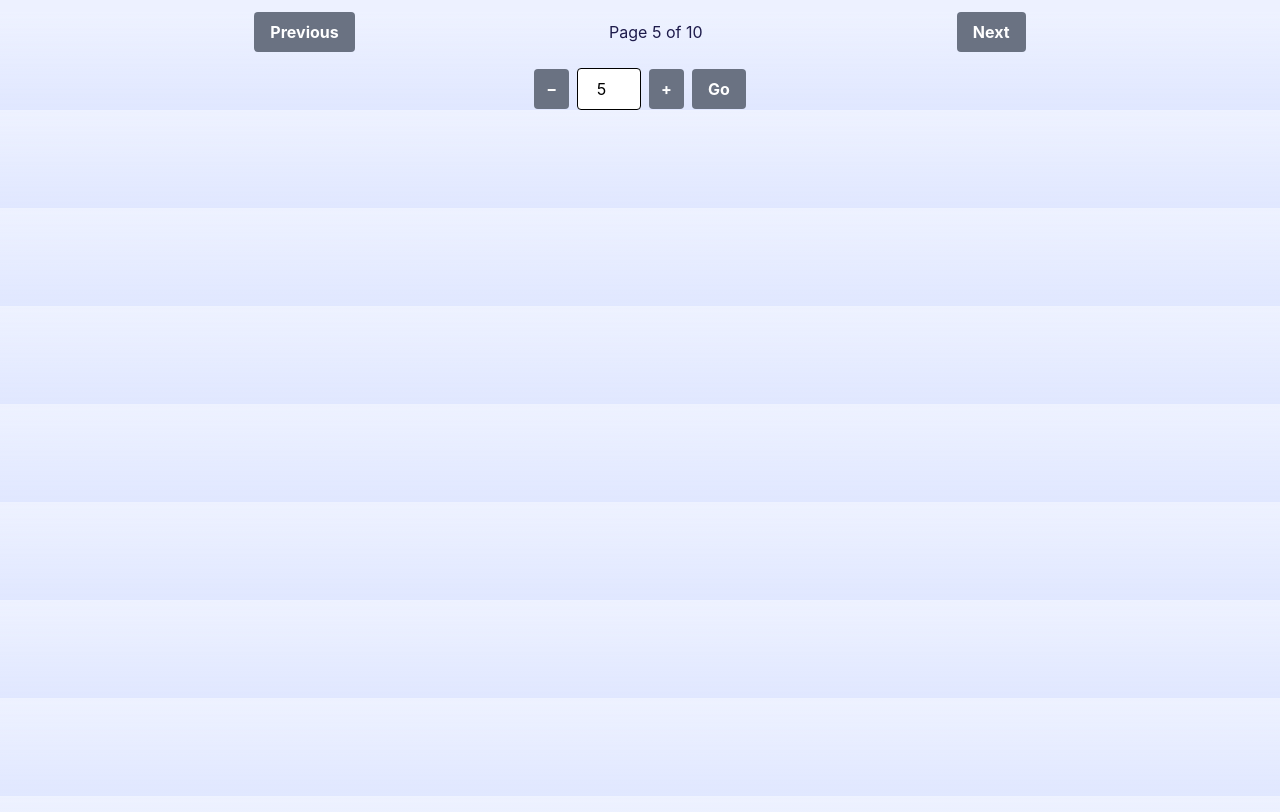
Scenario: PaginationControls › stepper buttons › Decrease button decrements the input value
Click the button named "Decrease page": (552, 89) left=534, top=69, right=569, bottom=109
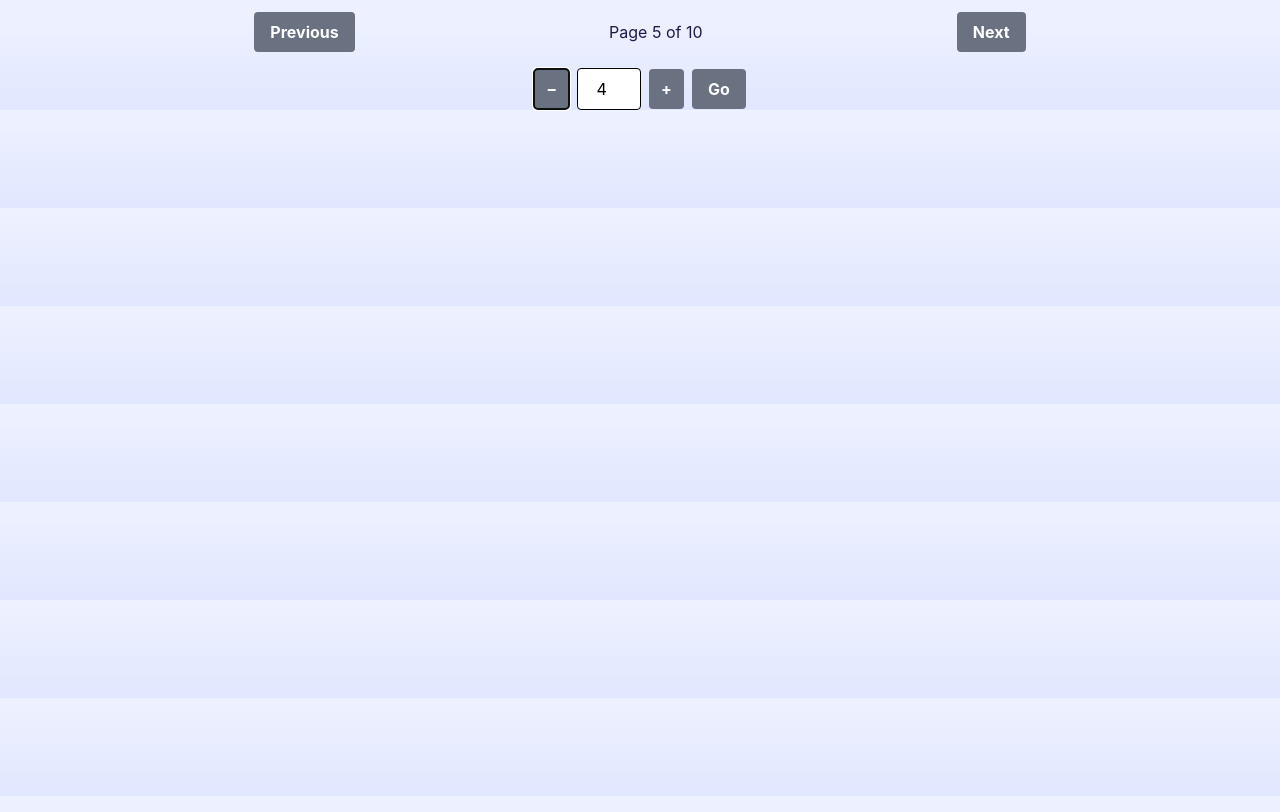
expect the number field named "Page Number Input" holds "4": met, box left=577, top=68, right=641, bottom=110
